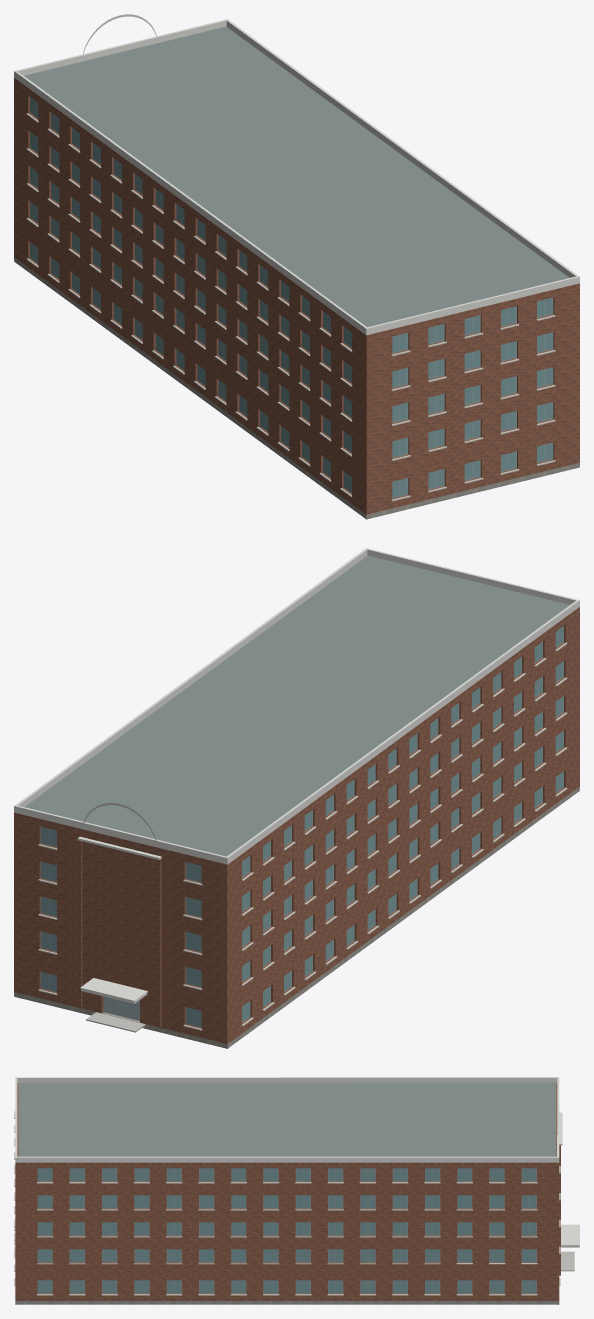
3 renders of one model, top to bottom at view 1: azimuth 30°, elevation 25°; view 2: azimuth 150°, elevation 25°; view 3: azimuth 270°, elevation 25°, orthographic. The views are drawn at different scales.
Parts seen in each view (by area): view 1: business__wall, business__roof, business__glass, business__cap, business__frame, business__band, business__plinth, business__foundation; view 2: business__wall, business__roof, business__glass, business__cap, business__frame, business__band, business__plinth, business__foundation; view 3: business__wall, business__roof, business__glass, business__cap, business__frame, business__band, business__plinth, business__foundation.
Boxes of the visible parts, x1,y1,x2,y2 form: business__wall: [14, 78, 579, 514]; business__roof: [24, 26, 569, 327]; business__glass: [30, 97, 552, 497]; business__cap: [14, 19, 579, 335]; business__frame: [30, 97, 553, 498]; business__band: [26, 14, 555, 501]; business__plinth: [14, 257, 579, 518]; business__foundation: [14, 258, 579, 519]; business__wall: [14, 607, 579, 1043]; business__roof: [24, 555, 569, 856]; business__glass: [41, 626, 563, 1027]; business__cap: [14, 548, 579, 1001]; business__frame: [40, 626, 563, 1027]; business__band: [38, 642, 567, 1030]; business__plinth: [14, 786, 579, 1047]; business__foundation: [14, 790, 579, 1048]; business__wall: [15, 1083, 560, 1300]; business__roof: [18, 1082, 556, 1156]; business__glass: [38, 1168, 536, 1292]; business__cap: [15, 1077, 579, 1245]; business__frame: [37, 1168, 536, 1293]; business__band: [14, 1111, 560, 1295]; business__plinth: [15, 1301, 559, 1303]; business__foundation: [15, 1301, 559, 1304].
Size of the model in its own units: 22.73 by 22.03 by 66.63.
Materials: 14 (4 with a texture image).
